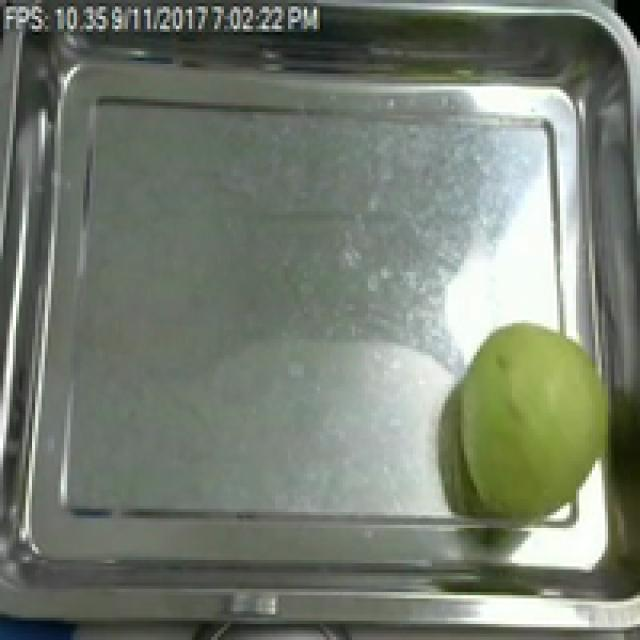Fruit: (432, 310, 634, 528)
